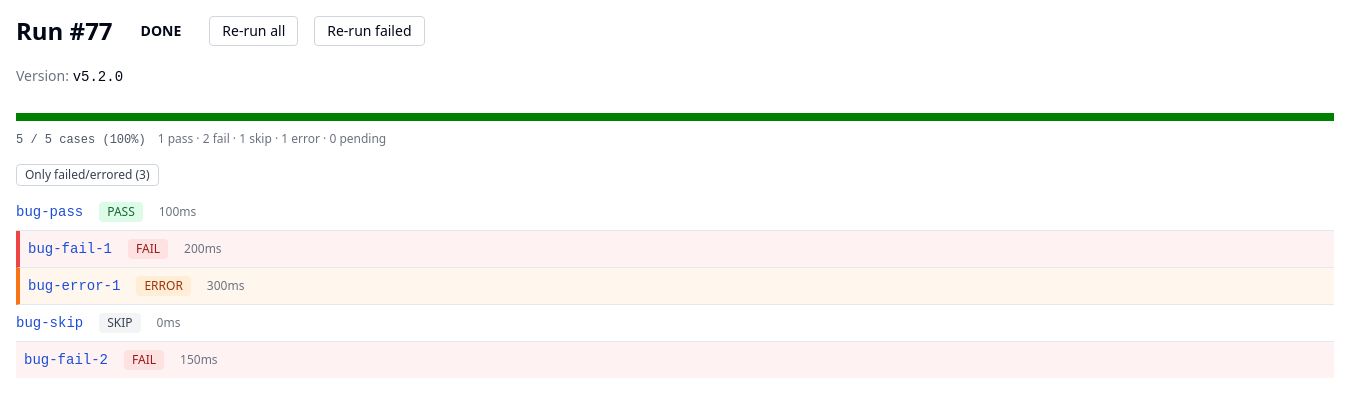
Scenario: RunDetailPage › "Only failed/errored" toggle filters the case list to problem rows
Expected: the element with test id "run-case-row-bug-pass" is shown, [16,194,1334,231]
Expected: the element with test id "run-case-row-bug-skip" is shown, [16,305,1334,342]
Turn on: pass + skip rows drop, only fail/error remain.
Click the button with test id "btn-filter-failed". click: coordinates (87, 175)
box: [16,164,158,186]
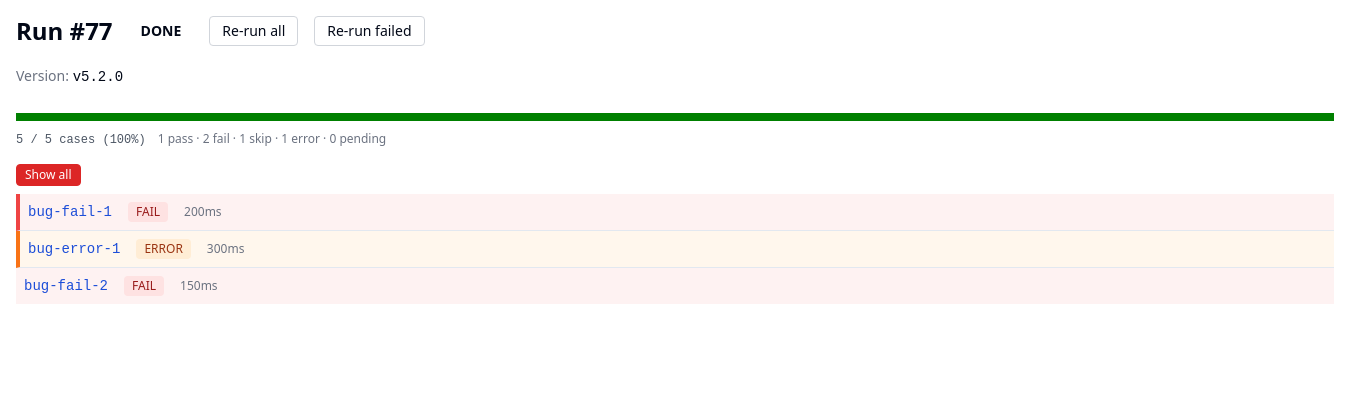
Expected: the button with test id "btn-filter-failed" reads "Show all"
Expected: the element with test id "run-case-row-bug-pass" is gone
Expected: the element with test id "run-case-row-bug-skip" is gone
Toggle back off: everything returns.
Click the button with test id "btn-filter-failed". click: coordinates (48, 175)
box: [16,164,80,186]
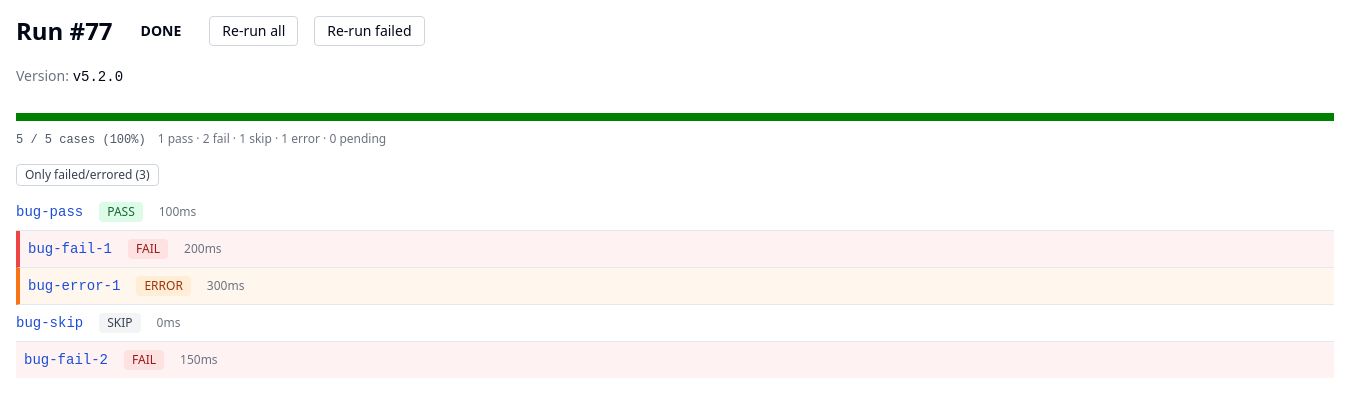
Expected: the element with test id "run-case-row-bug-pass" is shown, [16,194,1334,231]
